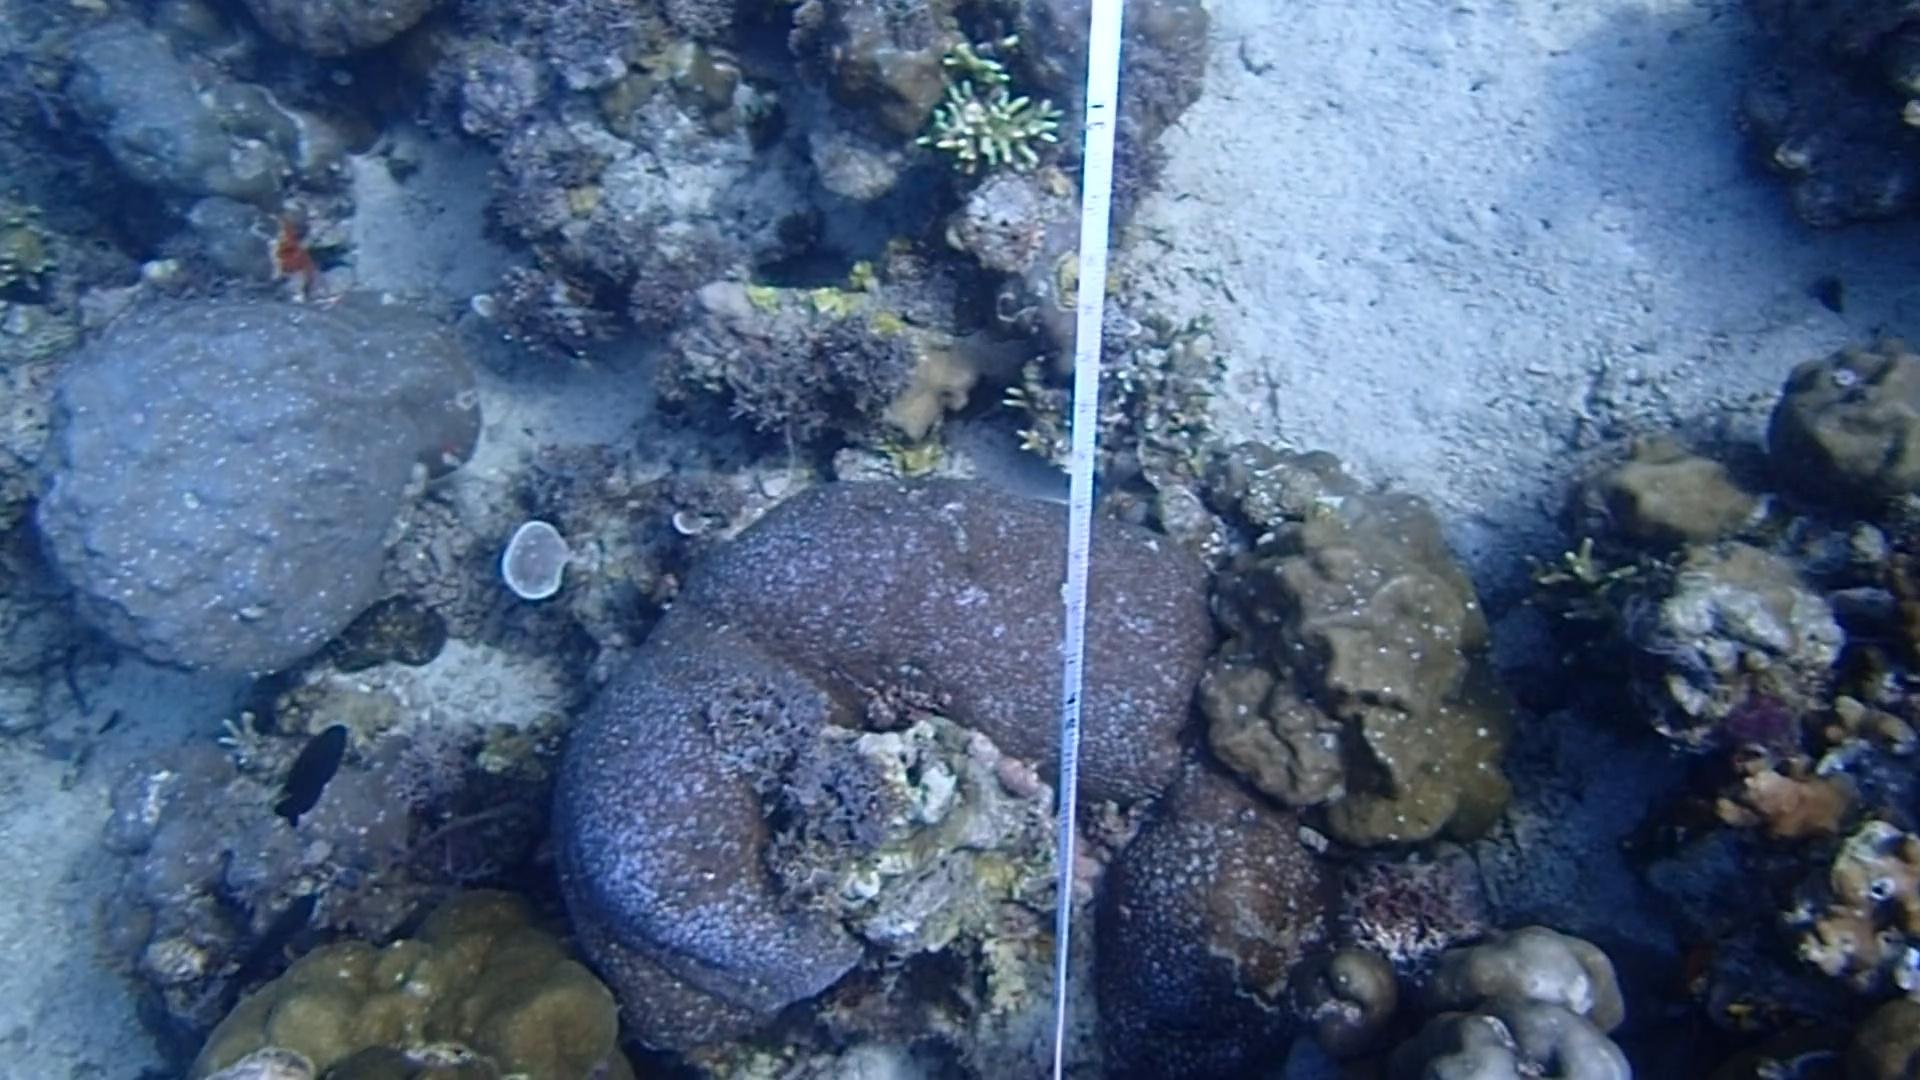Dark Fish: (260, 704, 359, 832)
